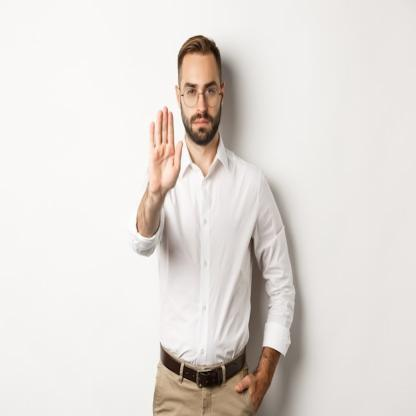stop: (146, 106, 184, 198)
